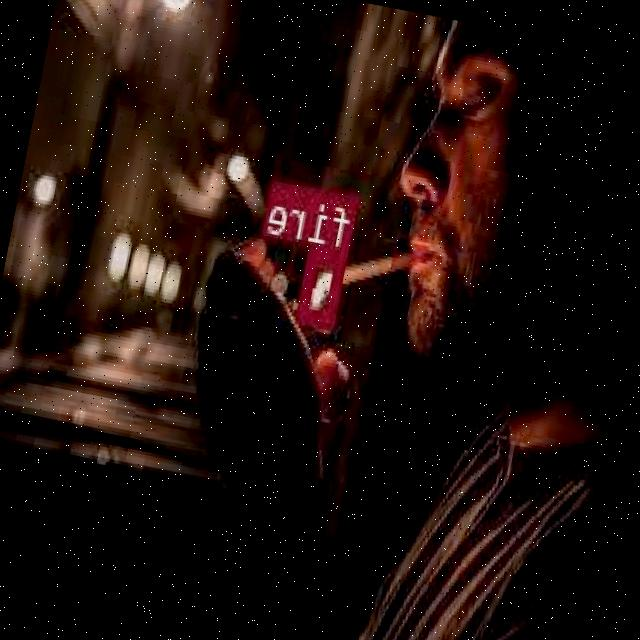fire: (299, 246, 350, 326)
